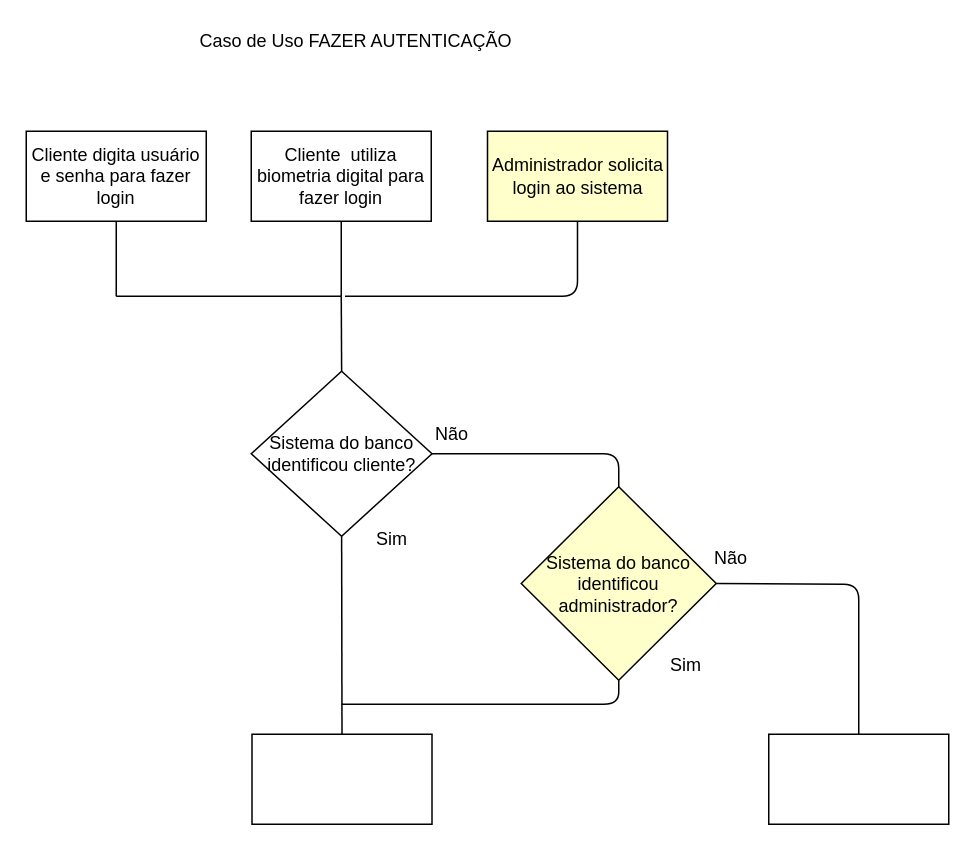
Image size: 975x851. Some labels were removed from this diagram. The centre of each missing label's shape, as x and y in pixels:
"Sistema fornece acesso à conta do cliente" belongs at [341,778].
"Sistema retorna a tela de login" belongs at [858,778].
